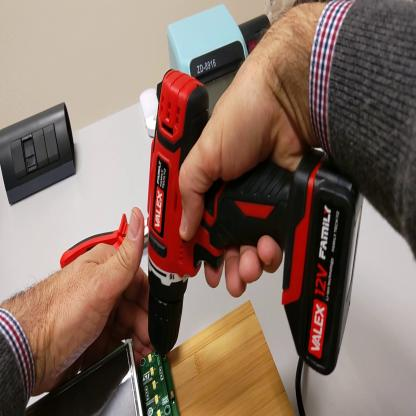electric screwdriver: (148, 67, 326, 355)
hand: (170, 47, 324, 295), (30, 207, 155, 395)
low voltage board: (26, 338, 181, 415)
pliers: (62, 213, 148, 267)
socket: (239, 14, 273, 55)
welder station: (169, 4, 249, 125)
working area: (168, 301, 296, 416)
